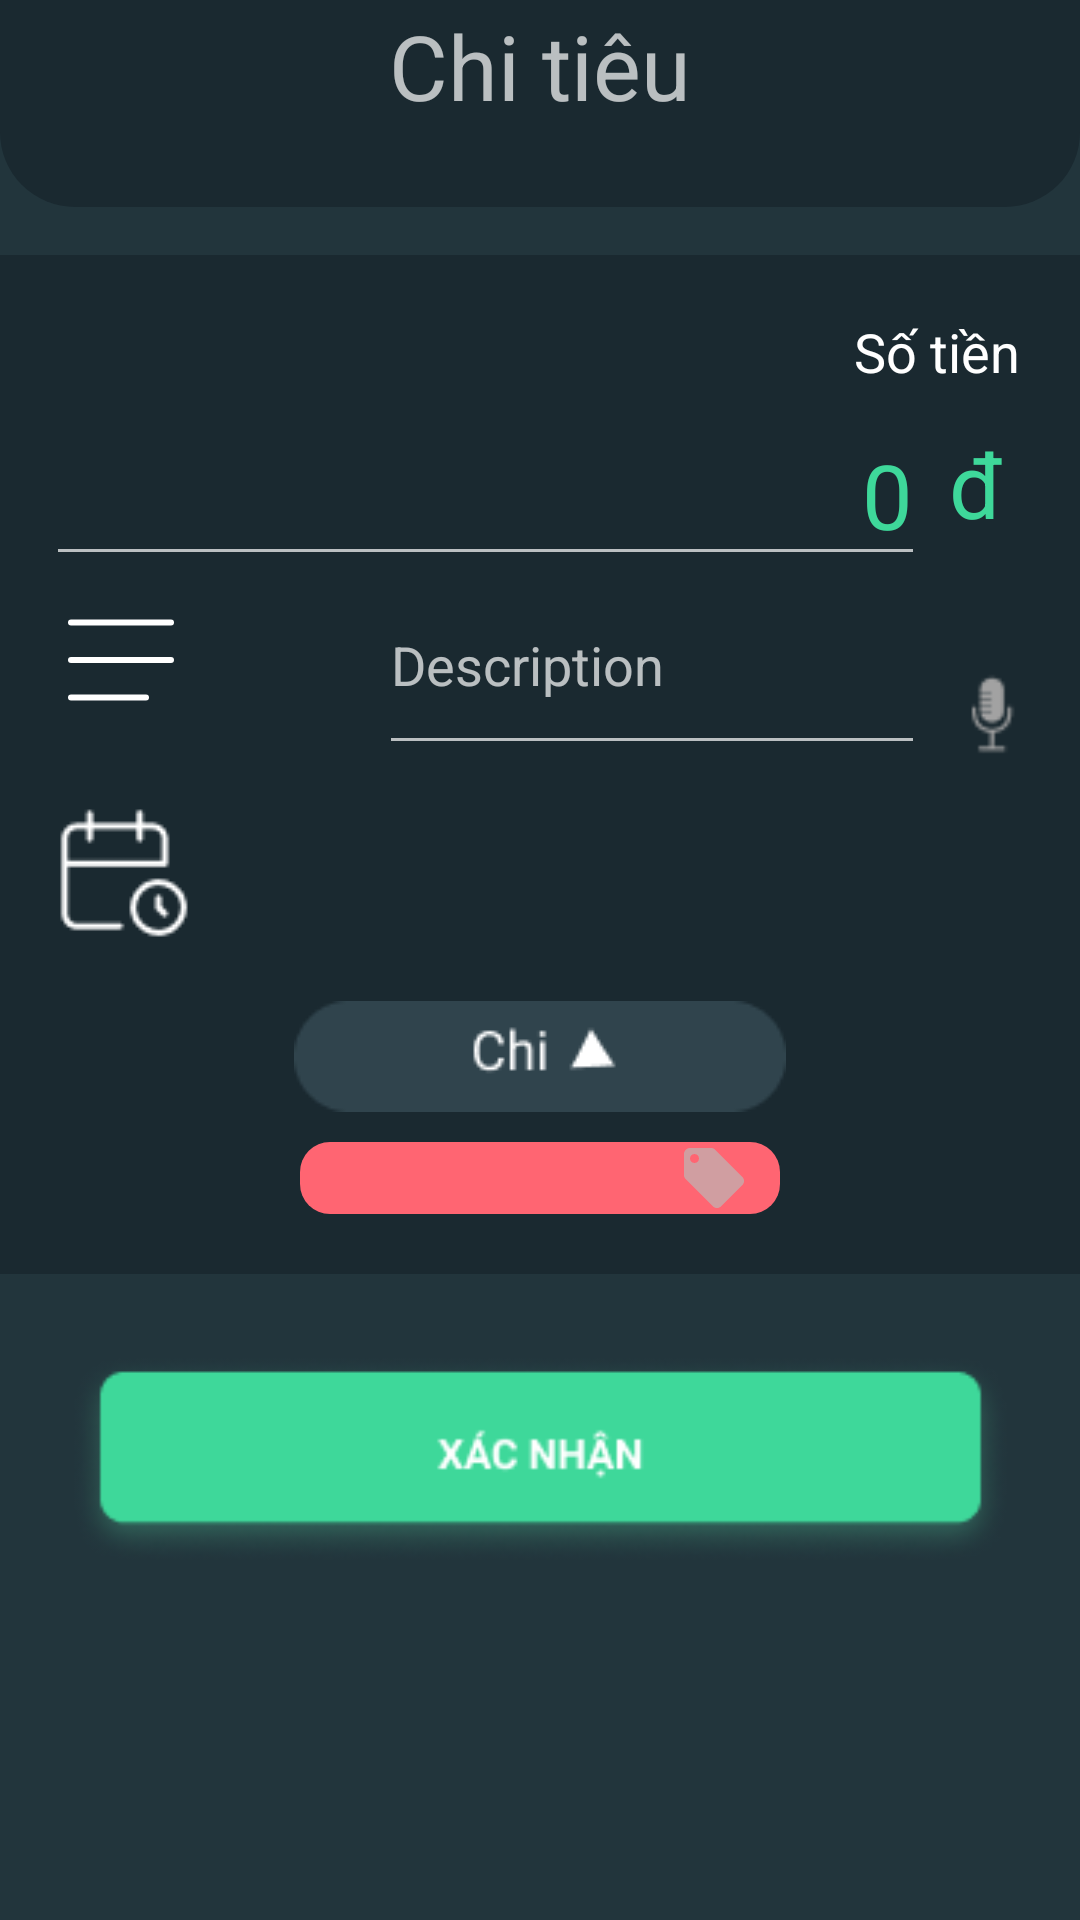

Icons on this 1080px×1920px Android screen, each with the point to tap as (x,y):
descript: (121,660)
iconmicro: (992,714)
